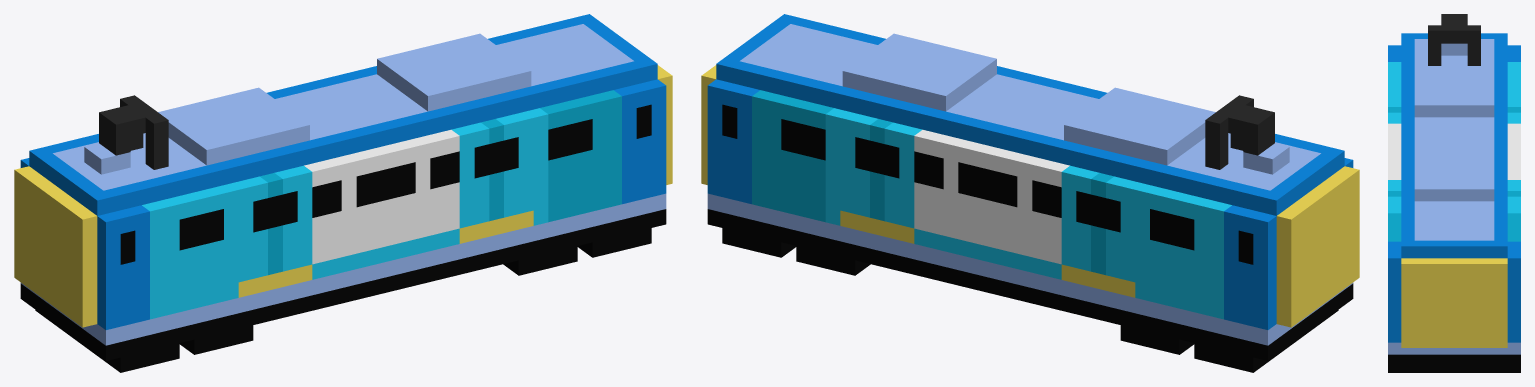
File: Train0.obj
3 renders of one model, left to right at view 1: azimuth 30°, elevation 25°; view 2: azimuth 150°, elevation 25°; view 3: azimuth 270°, elevation 25°, orthographic. The views are drawn at different scales.
Size of the model in its own units: 4 by 1.4 by 1.
Materials: 1 (1 with a texture image).
